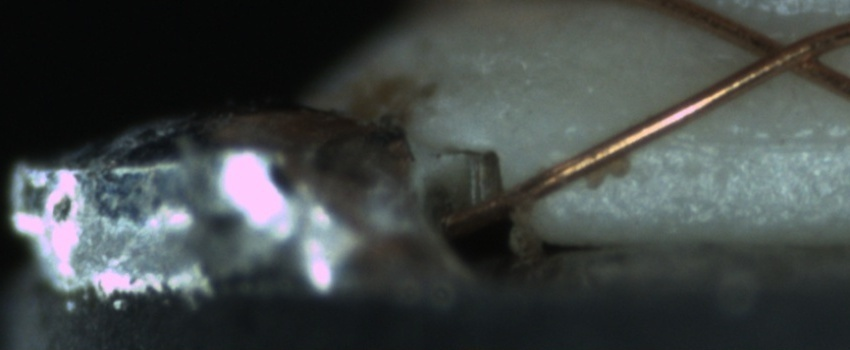CL: (730, 23, 834, 88)
DL: (639, 112, 850, 171)
